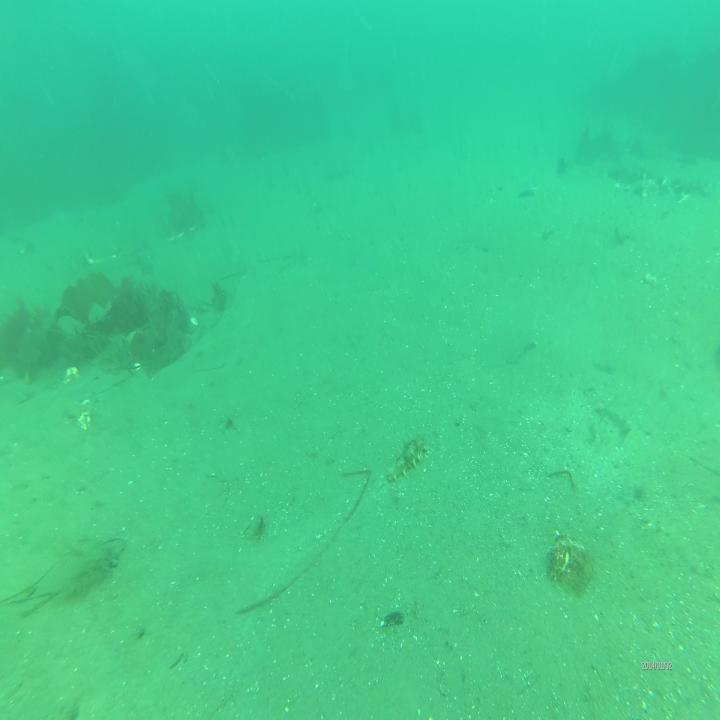holothurian: (386, 431, 430, 480)
scallop: (247, 511, 266, 547), (62, 362, 80, 385), (188, 308, 199, 331), (128, 360, 143, 373)
